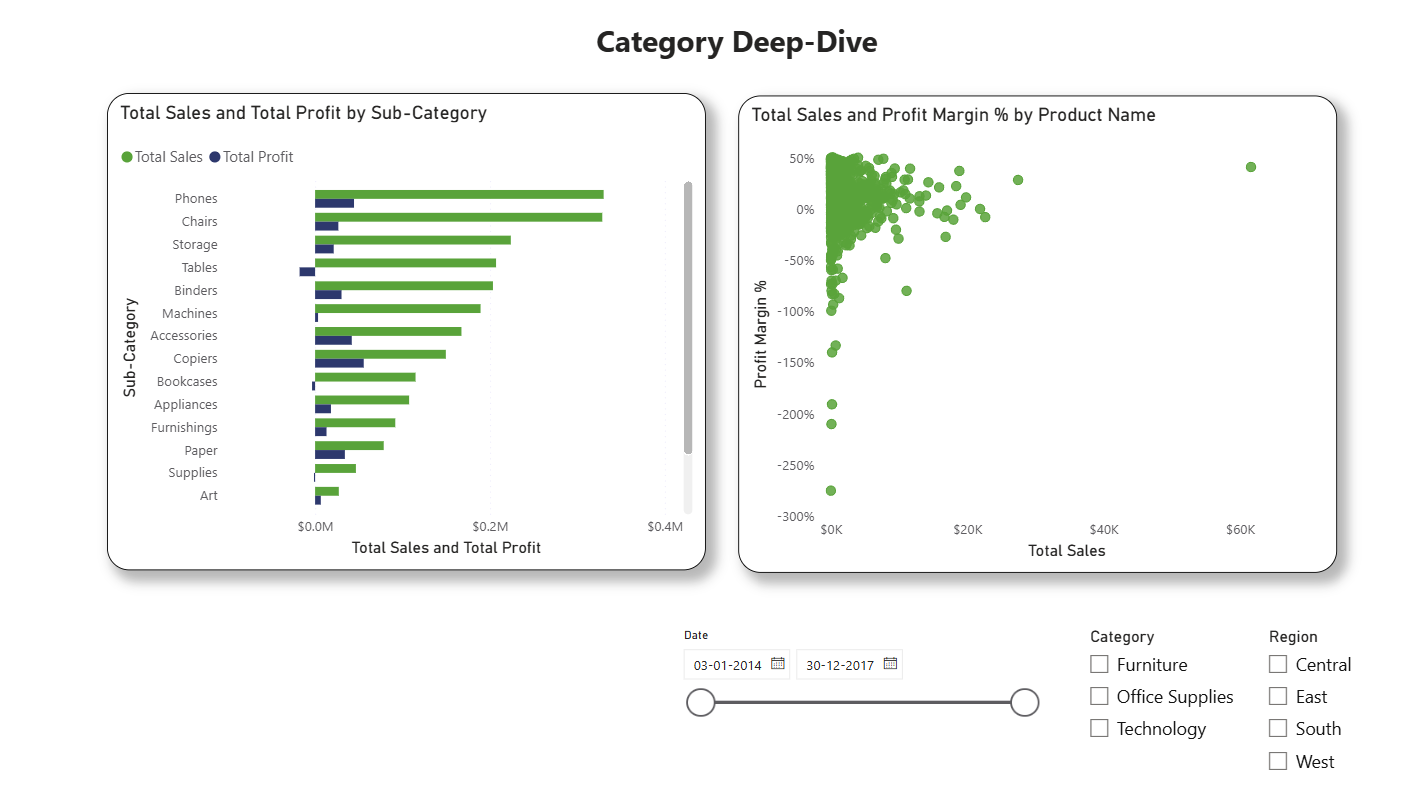

Layout of this report page (visuals, bound fields, positions):
{"tool":"powerbi","page":{"name":"Category Deep-Dive","canvas":[1280,720],"ordinal":1},"visuals":[{"type":"textbox","box":[535.2,19.2,266.2,46.7],"z":0},{"type":"clusteredBarChart","fields":{"Category":["superstore.Category","superstore.Sub-Category"],"Y":["Date.Total Sales","Date.Total Profit"]},"box":[98.8,90.6,540,430],"z":1000},{"type":"scatterChart","fields":{"X":["Date.Total Sales"],"Y":["Date.Profit Margin %"],"Category":["superstore.Product Name"]},"box":[668.3,91.9,540,430],"z":2000},{"type":"slicer","fields":{"Values":["superstore.Category"]},"box":[972.9,566.7,161.4,118.6],"z":3000},{"type":"slicer","fields":{"Values":["superstore.Region"]},"box":[1133.5,566.7,147.1,141.4],"z":4000},{"type":"slicer","fields":{"Values":["Date.Date"]},"box":[606.5,566.7,341.7,98.8],"z":5000}]}

Visuals, with their boxes in screenshot pixels (x1, y1, x2, y2), scaled from the page's 1280x720 canvas onto the 1402x786 screenshot:
textbox: bbox(586, 21, 878, 72)
clusteredBarChart - superstore.Category x superstore.Sub-Category: bbox(108, 99, 700, 568)
scatterChart - Date.Total Sales x Date.Profit Margin %: bbox(732, 100, 1323, 570)
slicer - superstore.Category: bbox(1066, 619, 1242, 748)
slicer - superstore.Region: bbox(1242, 619, 1401, 773)
slicer - Date.Date: bbox(664, 619, 1039, 727)
